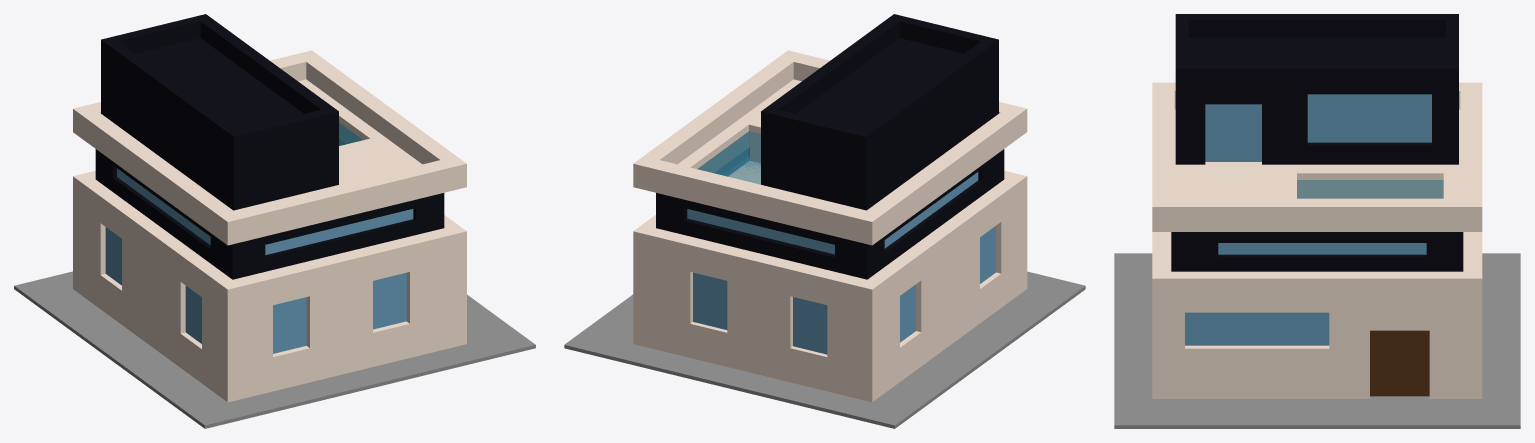
File: Dom IV.FBX
3 views of the same model, side by side, from view 1: azimuth 30°, elevation 25°; view 2: azimuth 150°, elevation 25°; view 3: azimuth 270°, elevation 25° (orthographic). The views are drawn at different scales.
Visible parts, largest first — view 1: Box001, Box004, Plane001, Object, Box002, Box003; view 2: Box001, Box004, Plane001, Object, Box002, Box003, Box009; view 3: Box001, Box004, Plane001, Object, Box007, Box002, Box010, Box009, Box003.
Boxes of the visible parts, x1,y1,x2,y2 form: Box001: (73, 50, 466, 402); Box004: (101, 14, 338, 210); Plane001: (14, 271, 535, 428); Object: (95, 149, 444, 279); Box002: (105, 227, 406, 353); Box003: (117, 139, 413, 254); Box001: (633, 50, 1027, 402); Box004: (761, 14, 998, 210); Plane001: (564, 271, 1085, 428); Object: (656, 149, 1004, 279); Box002: (693, 226, 995, 354); Box003: (687, 148, 978, 254); Box009: (697, 131, 760, 184); Box001: (1152, 82, 1482, 398); Box004: (1175, 14, 1458, 164); Plane001: (1114, 253, 1520, 428); Object: (1171, 232, 1463, 271); Box007: (1205, 94, 1431, 161); Box002: (1185, 312, 1329, 345); Box010: (1370, 330, 1429, 396); Box009: (1297, 180, 1443, 198); Box003: (1218, 243, 1426, 254).
Bounding box in the file's own units: 2 × 1.48 × 2.
